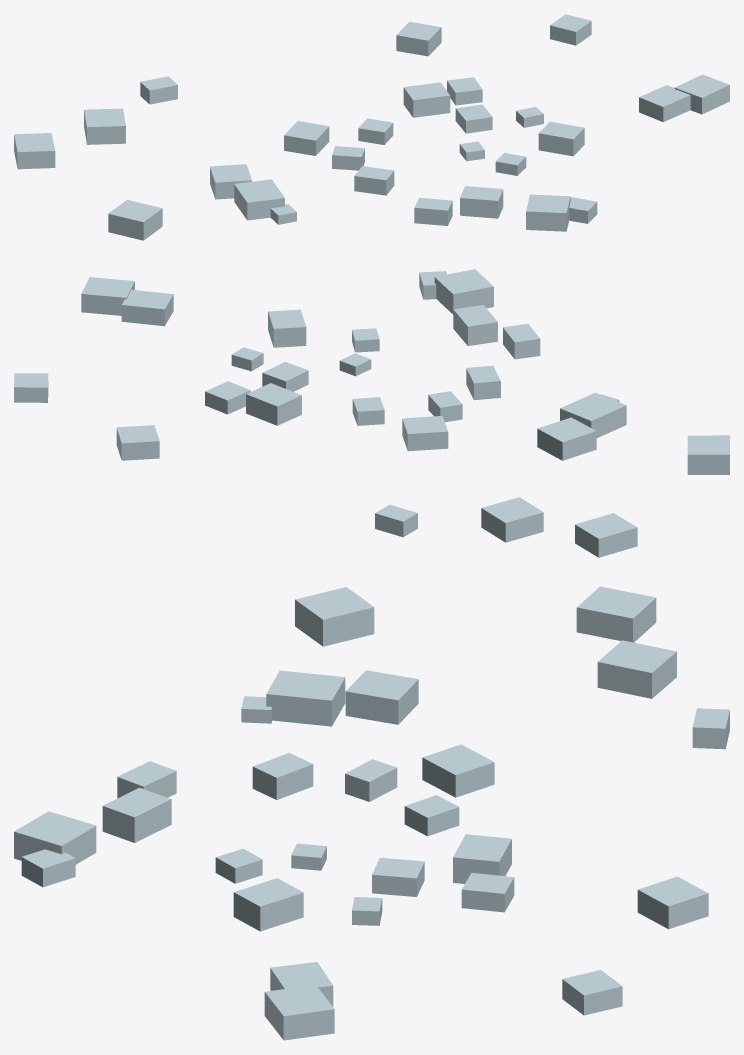
Rendered from SM_Int_GlassGranules.fbx.
3 renders of one model, top to bottom at view 1: azimuth 30°, elevation 25°; view 2: azimuth 150°, elevation 25°; view 3: azimuth 270°, elevation 25°, orthographic. The views are drawn at different scales.
Parts seen in each view (by area): view 1: SM_Int_GlassGranules; view 2: SM_Int_GlassGranules; view 3: SM_Int_GlassGranules.
Part boxes in pixels (x1,y1,x2,y2): SM_Int_GlassGranules: (14,14,729,240); SM_Int_GlassGranules: (14,269,729,557); SM_Int_GlassGranules: (14,586,729,1040).
Size of the model in its own units: 0.0817 by 0.116 by 0.0034.
